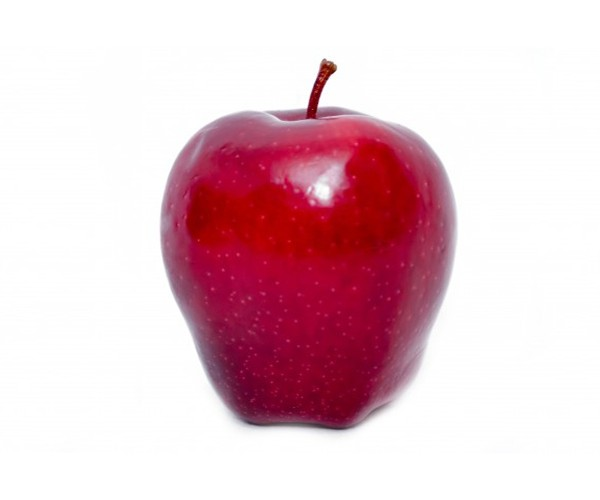apple: (155, 105, 453, 436)
